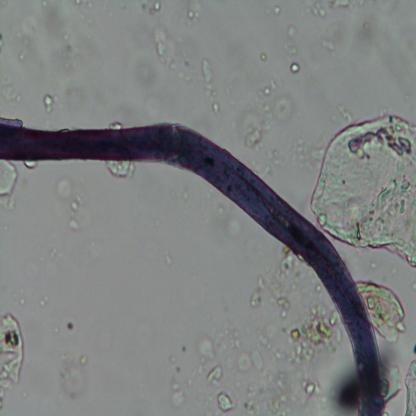Background material: (310, 99, 416, 260), (202, 318, 270, 385), (240, 370, 326, 414), (284, 300, 342, 364), (248, 251, 302, 313), (364, 280, 408, 349), (0, 305, 27, 407), (153, 27, 191, 83), (58, 349, 92, 401), (327, 360, 357, 416), (238, 103, 269, 149), (201, 57, 221, 118), (402, 345, 416, 414), (0, 162, 21, 202), (65, 193, 88, 227), (312, 0, 351, 19), (272, 98, 295, 127), (106, 159, 136, 178), (284, 24, 300, 58), (216, 389, 238, 410), (0, 85, 23, 103), (257, 81, 276, 96), (42, 94, 56, 114), (185, 5, 200, 21), (147, 4, 163, 18), (289, 61, 301, 74)
Microfibre: (0, 117, 387, 415)
